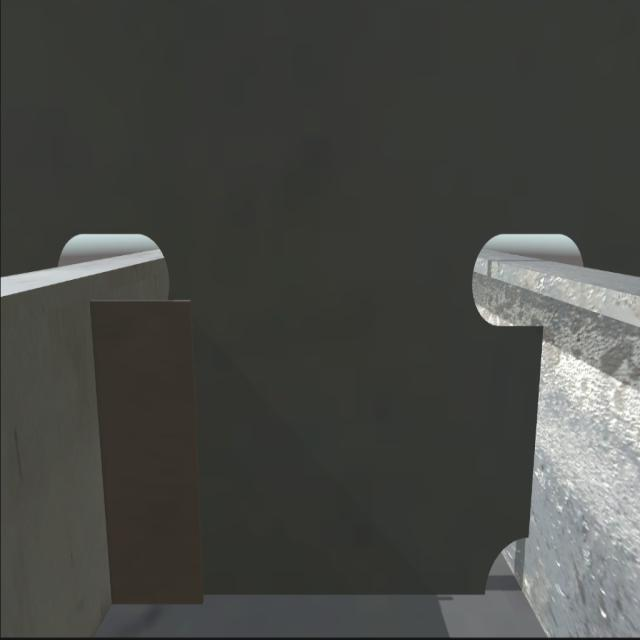fillet_hole: (484, 536, 536, 597)
fillet_yong_jeop_jang: (108, 577, 487, 610)
longi_yong_jeop_jang: (91, 289, 121, 609), (532, 316, 546, 540)
plate_CP01: (92, 306, 211, 605)
